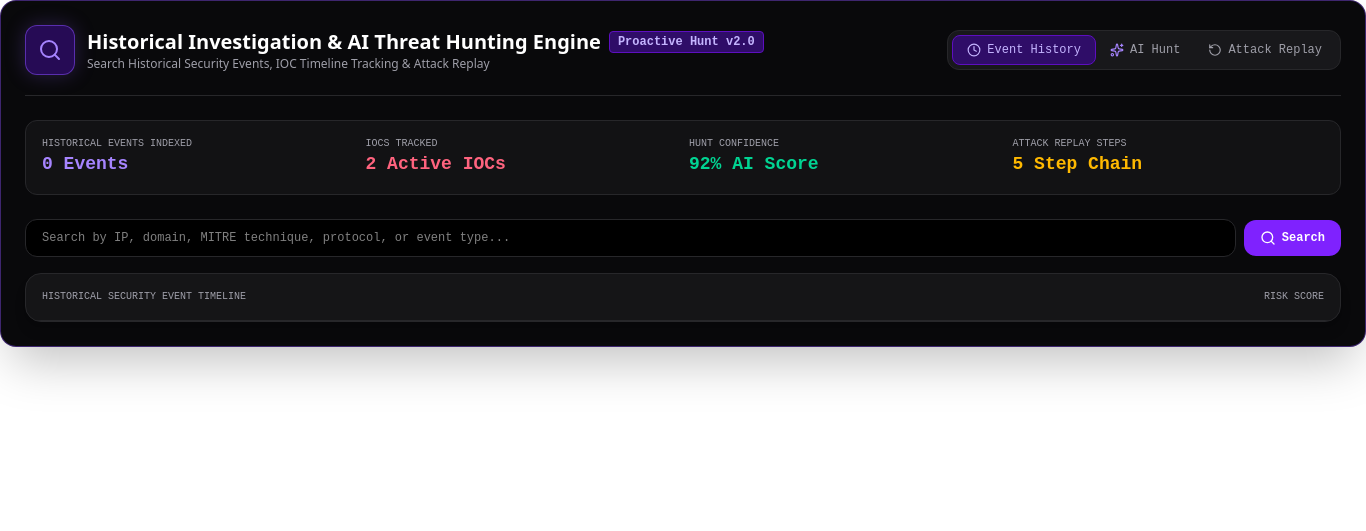
it: ThreatHuntingWorkspace Component › switches to AI Hunt tab
The image size is (1366, 531).
Expected: the heading "Historical Investigation & AI Threat Hunting Engine" is shown, [87,28,601,55]
Click the button "AI Hunt" at (1145, 50), box [1096,36,1194,64]
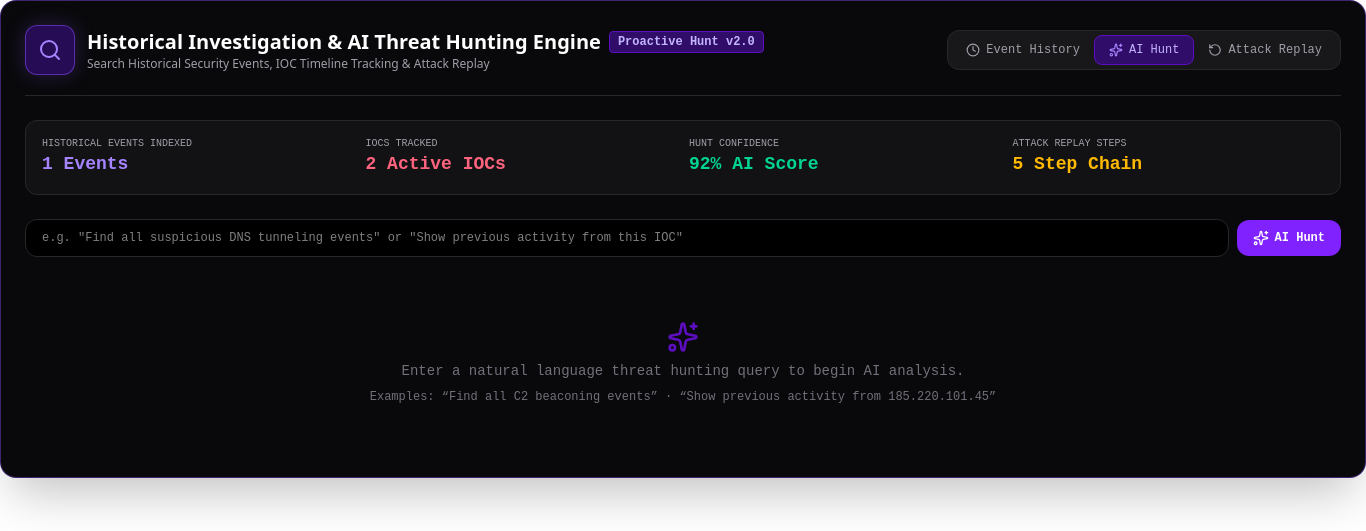
Result: the field with placeholder "Find all suspicious DNS tunneling events" is shown at [25,219,1229,257]
